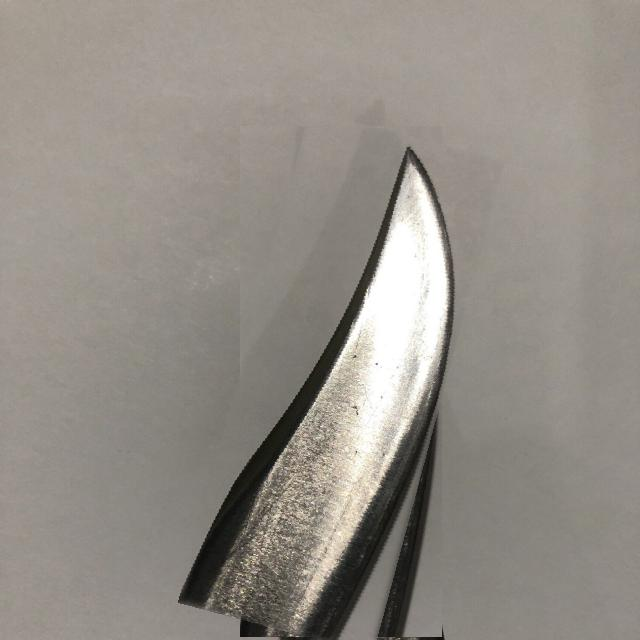knife: (209, 117, 474, 640)
